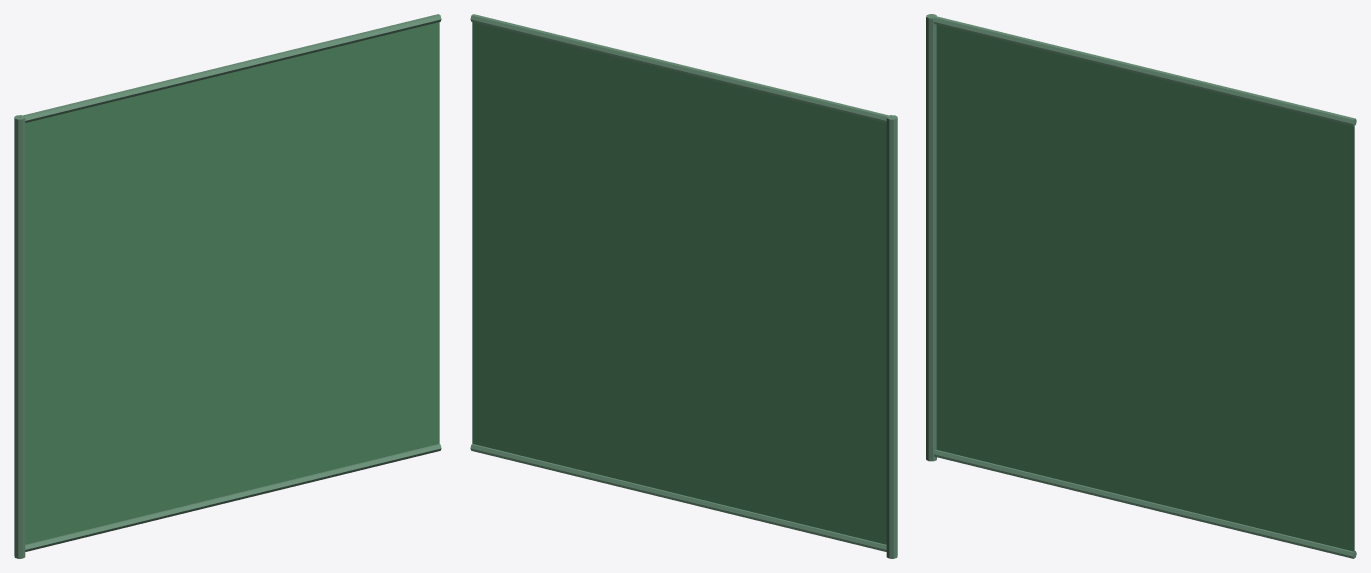
File: grillage.glb
The picture shows the model from 3 angles, left to right: view 1: azimuth 30°, elevation 25°; view 2: azimuth 150°, elevation 25°; view 3: azimuth 330°, elevation 25°; orthographic projection.
Visible parts, largest first — view 1: grillage; view 2: grillage; view 3: grillage.
Part boxes in pixels (box(x1,y1,x2,y2)): grillage: box(14, 14, 441, 558); grillage: box(470, 14, 897, 558); grillage: box(926, 14, 1356, 558).
Size of the model in its own units: 3.04 by 3 by 0.07.
